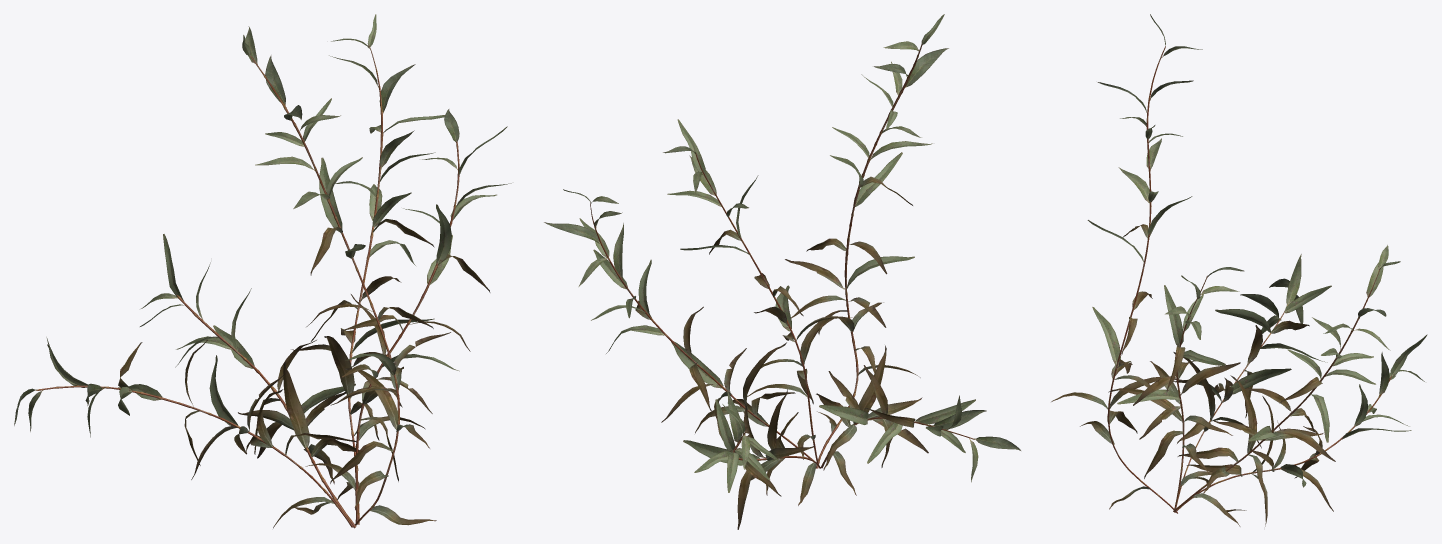
File: shrub_02.glb
The picture shows the model from 3 angles, left to right: view 1: azimuth 30°, elevation 25°; view 2: azimuth 150°, elevation 25°; view 3: azimuth 270°, elevation 25°; orthographic projection. The views are drawn at different scales.
Size of the model in its own units: 1.56 by 1.71 by 1.29.
1 material, 1 textured.
